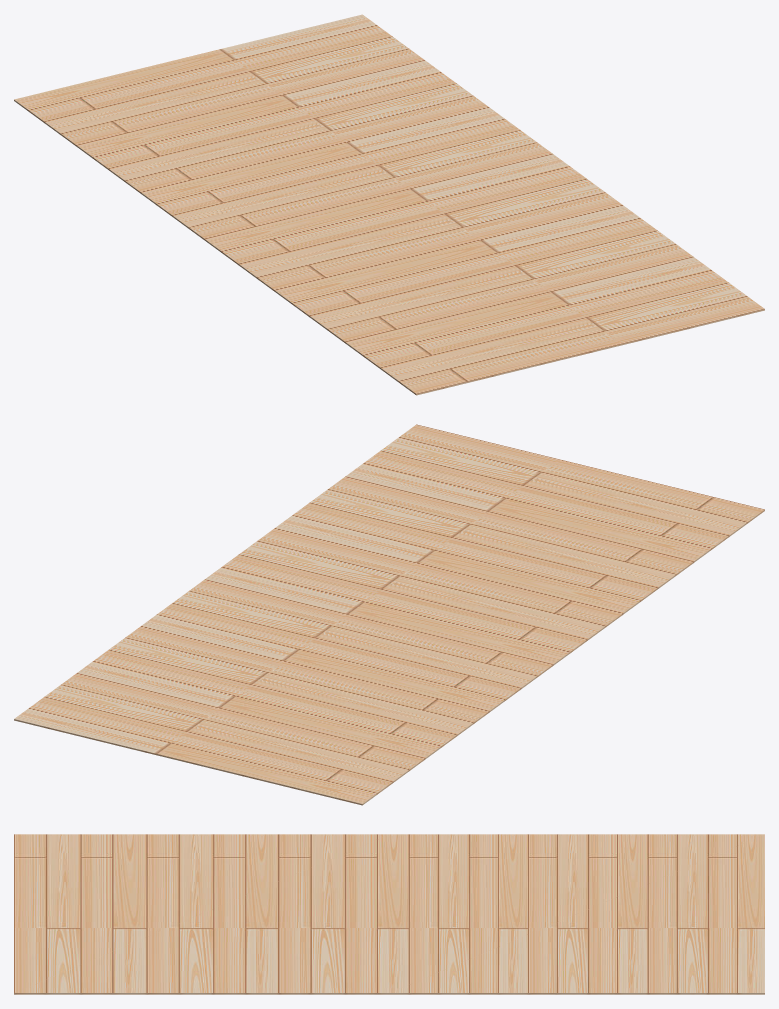
The model's file is Floor2 1.fbx.
3 views of the same model, one above another, from view 1: azimuth 30°, elevation 25°; view 2: azimuth 150°, elevation 25°; view 3: azimuth 270°, elevation 25° (orthographic). The views are drawn at different scales.
Parts seen in each view (by area): view 1: pCube1; view 2: pCube1; view 3: pCube1.
Part boxes in pixels (bbox=[...]): pCube1: bbox=[14, 14, 764, 395]; pCube1: bbox=[14, 424, 764, 805]; pCube1: bbox=[14, 834, 764, 994].
Bounding box in the file's own units: 301 × 603 × 1.21.
1 material, 1 textured.
